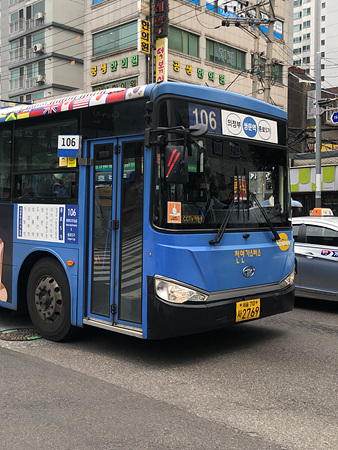entrance: (85, 133, 151, 335)
